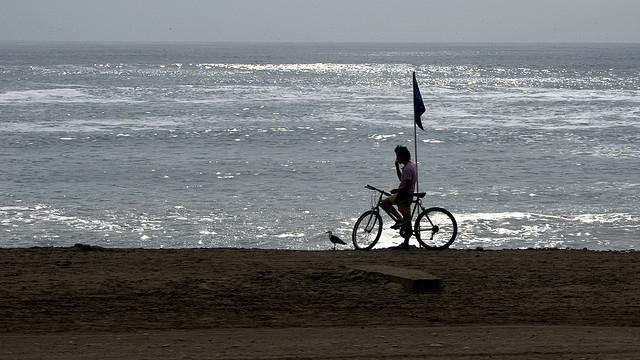bicycle: (352, 182, 459, 249)
